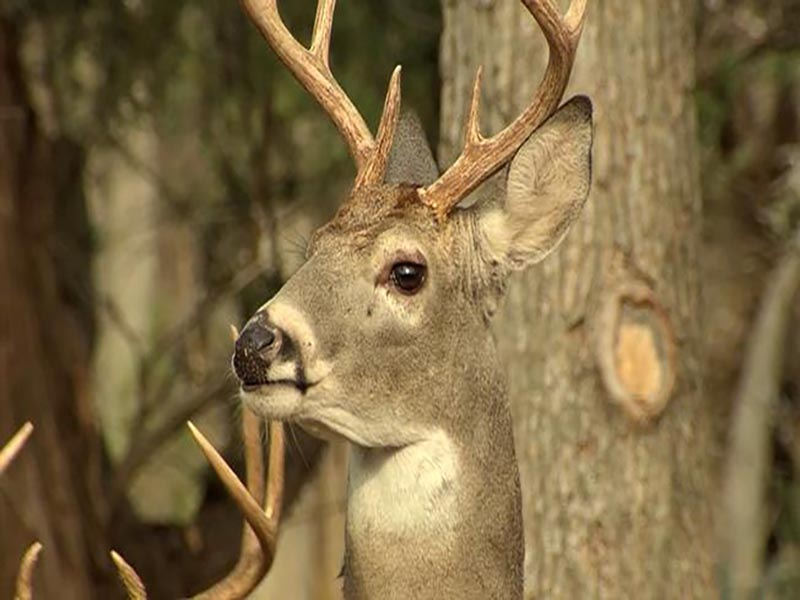cervo: (221, 6, 610, 600)
